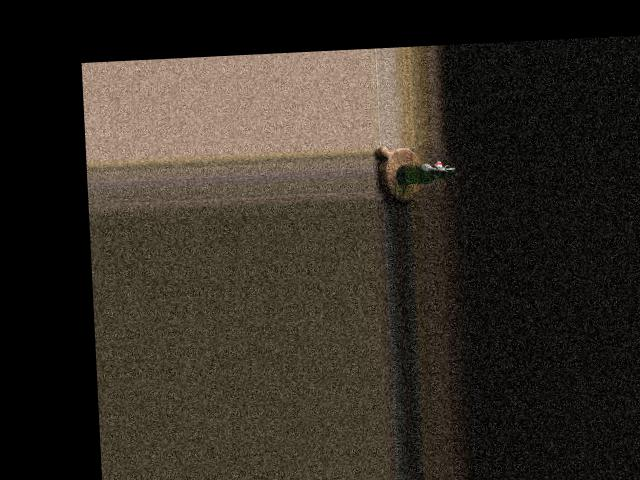beer: (397, 161, 458, 184)
